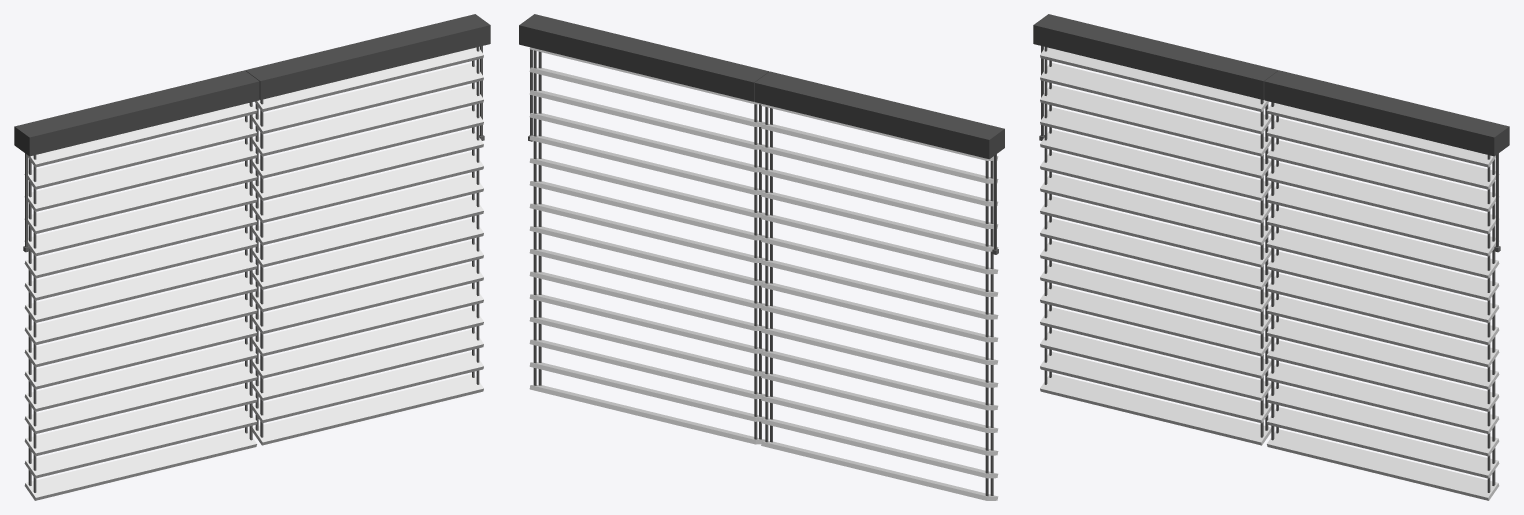
Rendered from Curtains12_C1.fbx.
3 views of the same model, side by side, from view 1: azimuth 30°, elevation 25°; view 2: azimuth 150°, elevation 25°; view 3: azimuth 330°, elevation 25° (orthographic). The views are drawn at different scales.
Parts seen in each view (by area): view 1: Curtains12_C1; view 2: Curtains12_C1; view 3: Curtains12_C1.
Boxes of the visible parts, x1=… form: Curtains12_C1: x1=14, y1=14, x2=490, y2=500; Curtains12_C1: x1=519, y1=14, x2=1004, y2=500; Curtains12_C1: x1=1033, y1=14, x2=1509, y2=500.
Bounding box in the file's own units: 223 × 169 × 12.67.
